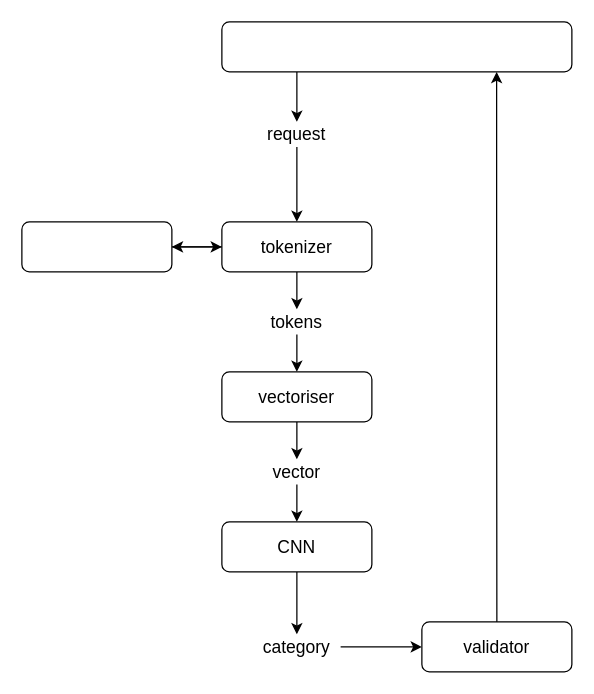
The diagram is 594 pixels wide and 694 high, and some of its shapes have lost their labels. The centre of each missing label's shape, as x and y in pixels:
"symbol table" belongs at [96,246].
"Web Application Firewall" belongs at [396,46].
